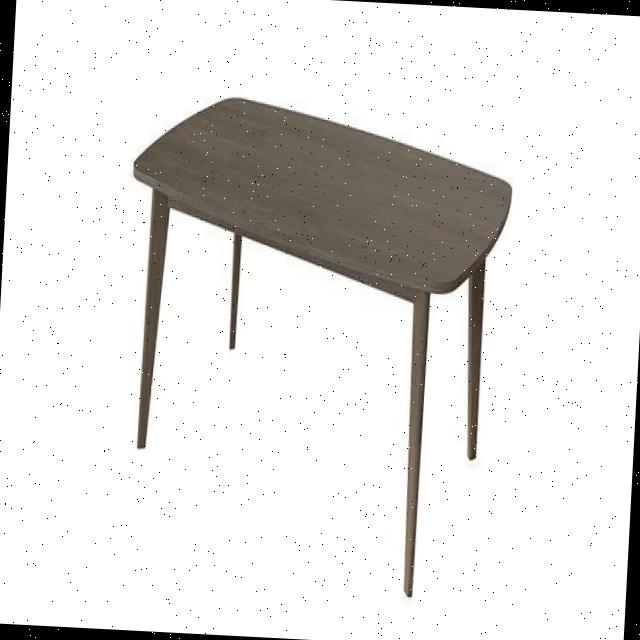Table: (84, 43, 528, 622)
